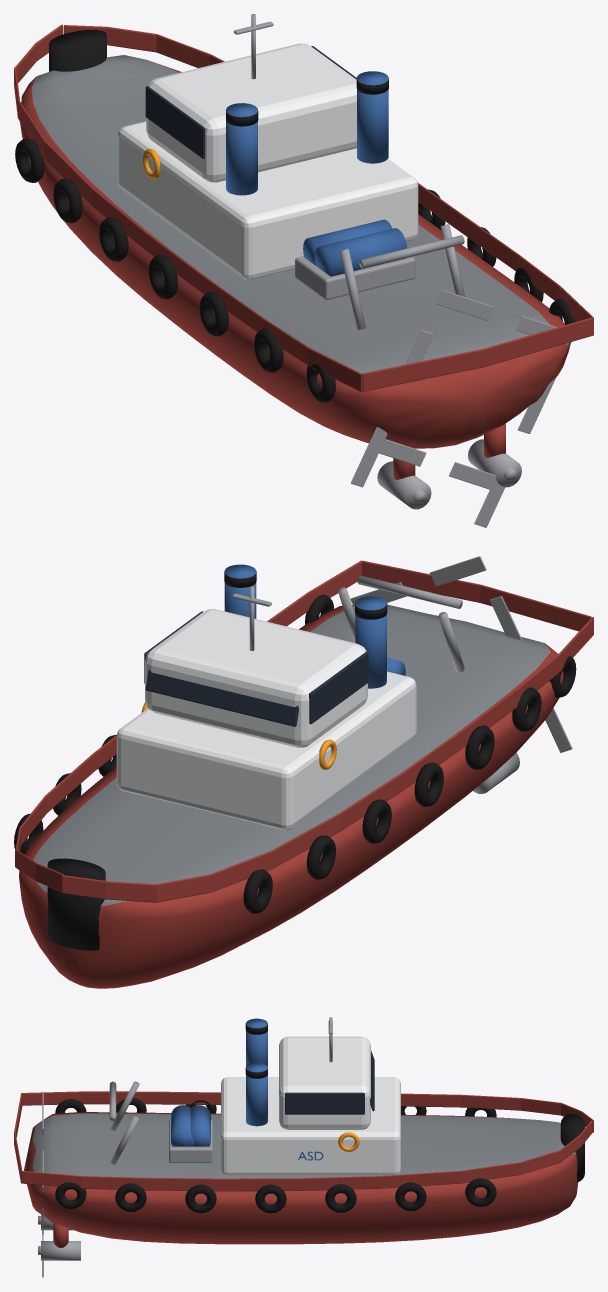
Rendered from rebocador_asd.glb.
3 views of the same model, one above another, from view 1: azimuth 30°, elevation 25°; view 2: azimuth 150°, elevation 25°; view 3: azimuth 270°, elevation 25° (orthographic). The views are drawn at different scales.
Visible parts, largest first — view 1: rebocador_asd; view 2: rebocador_asd; view 3: rebocador_asd.
Boxes of the visible parts, x1,y1,x2,y2 form: rebocador_asd: [14, 14, 593, 527]; rebocador_asd: [14, 556, 593, 988]; rebocador_asd: [14, 1017, 593, 1277].
Bounding box in the file's own units: 11.12 × 13.88 × 29.01.
